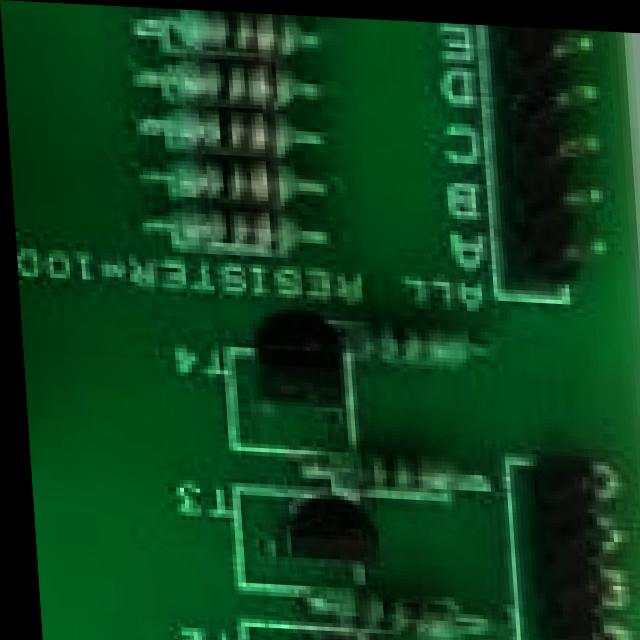connector: (452, 18, 631, 317), (498, 447, 640, 640)
display: (150, 198, 337, 269), (149, 144, 330, 201), (147, 60, 309, 116), (136, 6, 306, 56), (147, 108, 320, 157)
resistor: (259, 440, 506, 512), (347, 304, 503, 388), (288, 577, 485, 640)
